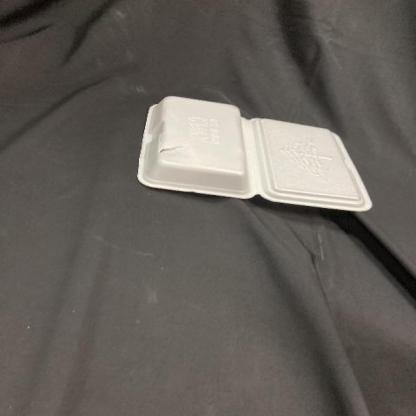Glass Cup: (138, 96, 374, 212), (137, 96, 373, 211)
